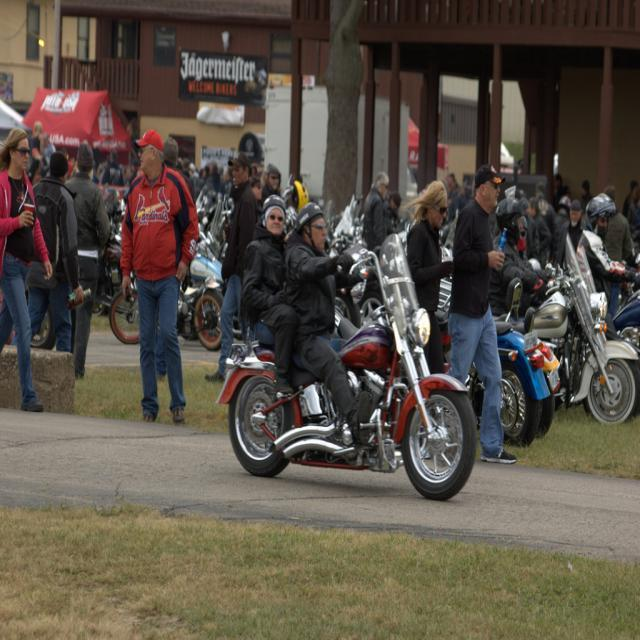bus: (213, 236, 478, 502), (506, 226, 639, 428), (188, 227, 225, 354)
